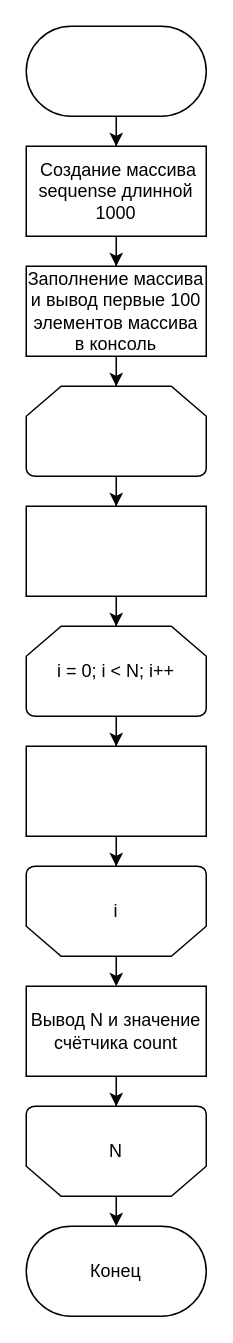
Image size: 233x1343. Some labels were removed from this diagram. The centre of each missing label's shape, as x and y in pixels:
"N = 100; N <= 1000; N += 100" belongs at [115,430].
"Если i-ое значение sequence совпадает с ключом, то счётчик увеличивается на 1" belongs at [115,790].
"Начало" belongs at [115,70].
"Создание счётчика count = 0" belongs at [115,550].
